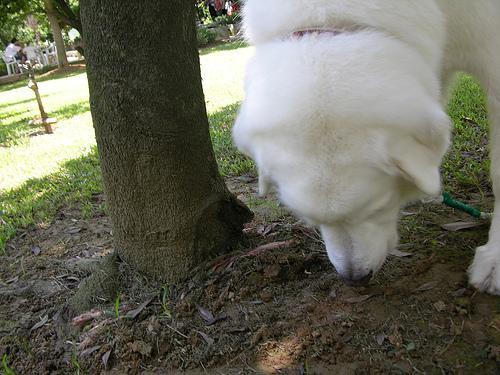Great_Pyrenees: (231, 0, 498, 295)
